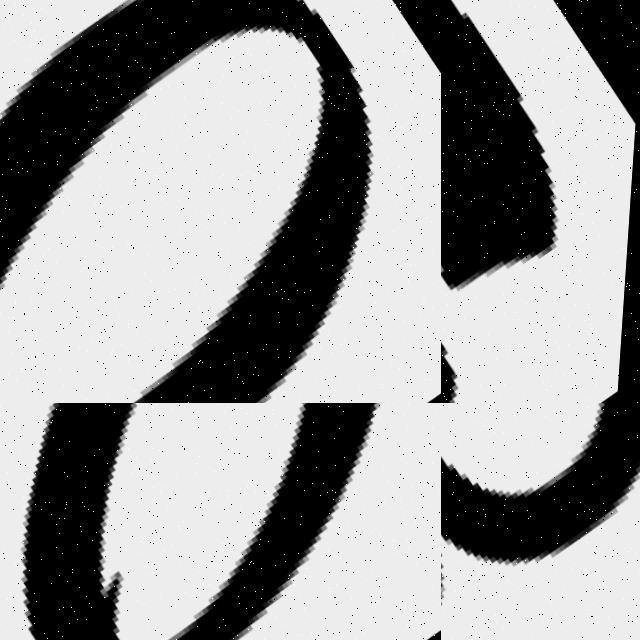0: (0, 403, 441, 640)
3: (441, 403, 640, 640)
E: (441, 0, 568, 293)
O: (0, 0, 379, 403)
